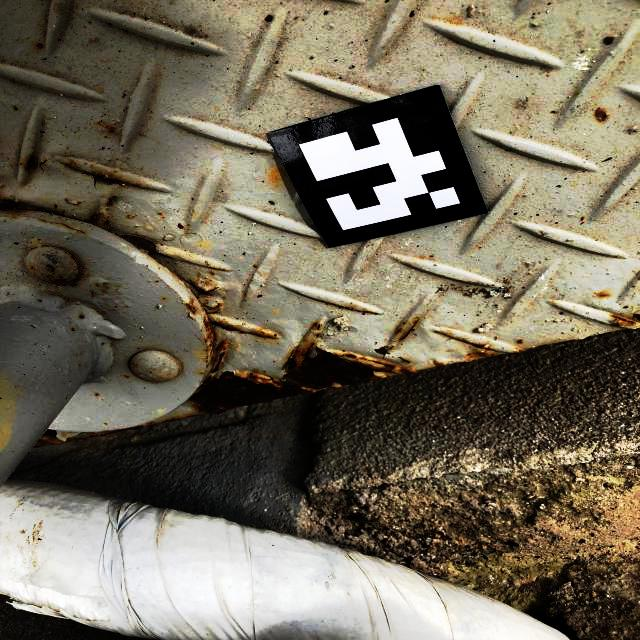Corrosion: (146, 278, 413, 426), (33, 425, 143, 449), (432, 332, 503, 367), (77, 166, 146, 189), (41, 252, 84, 287), (144, 254, 188, 288), (114, 232, 158, 254), (36, 217, 88, 235), (392, 316, 422, 342), (608, 309, 640, 329), (0, 195, 30, 215), (21, 154, 47, 172), (78, 209, 103, 226), (97, 119, 117, 134), (594, 105, 609, 125), (371, 345, 395, 357), (62, 157, 81, 170), (596, 291, 610, 299), (105, 198, 114, 208), (516, 339, 524, 345)
